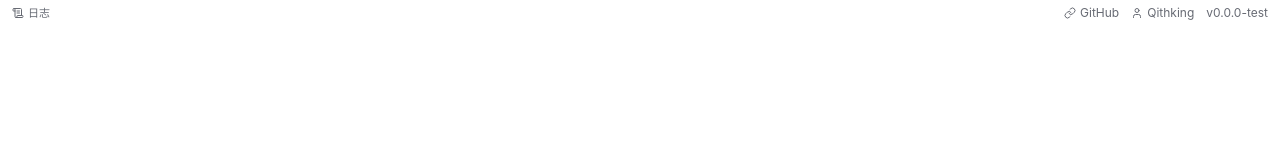
Scenario: StatusBar viewLogsTooltip 快捷键正确性 › AC-1: 重绑 logViewer 为 Ctrl+Shift+L → 显示新快捷键
This screenshot has width=1280, height=160.
Focus the element with test id "statusbar-log-button" at [31, 13], box [12,5,50,21]
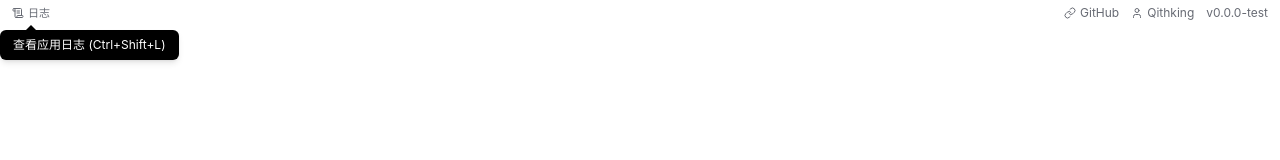
Expected: the tooltip shows "Ctrl+Shift+L", [13,37,166,52]
